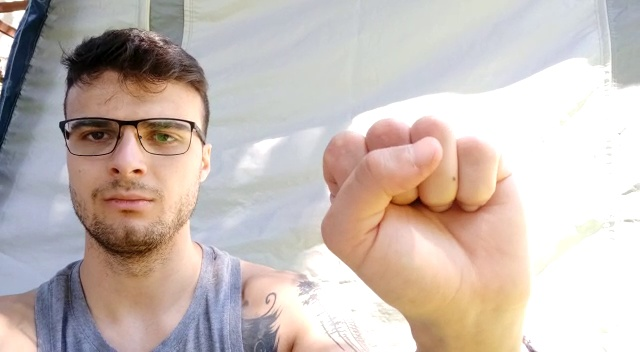Fist: (313, 114, 542, 325)
